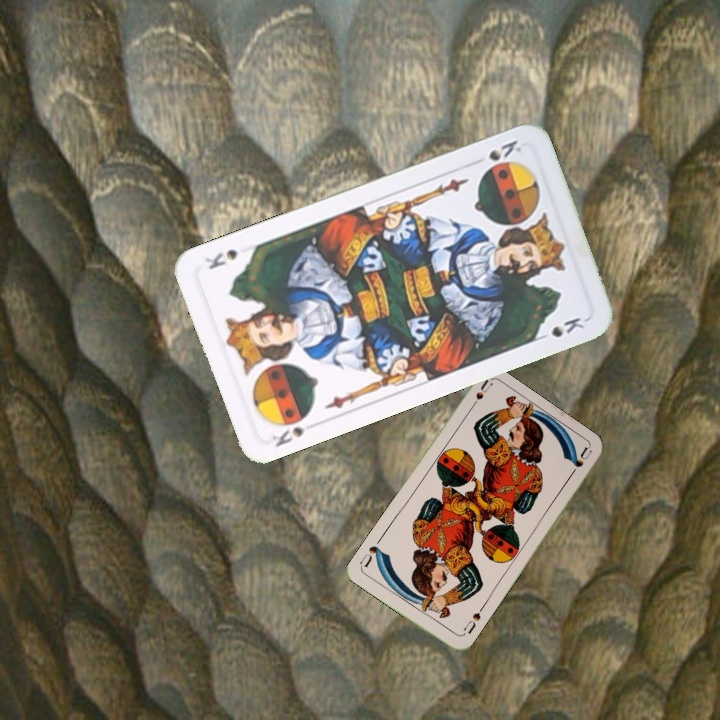SK: (484, 135, 524, 164), (268, 422, 308, 450)
SU: (465, 376, 494, 414), (459, 603, 486, 636)
